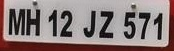character: (7, 7, 25, 36), (24, 7, 40, 37), (98, 9, 114, 39), (58, 9, 73, 38), (81, 10, 96, 38), (122, 11, 137, 39), (136, 11, 151, 39), (151, 12, 165, 41), (47, 8, 59, 37)
